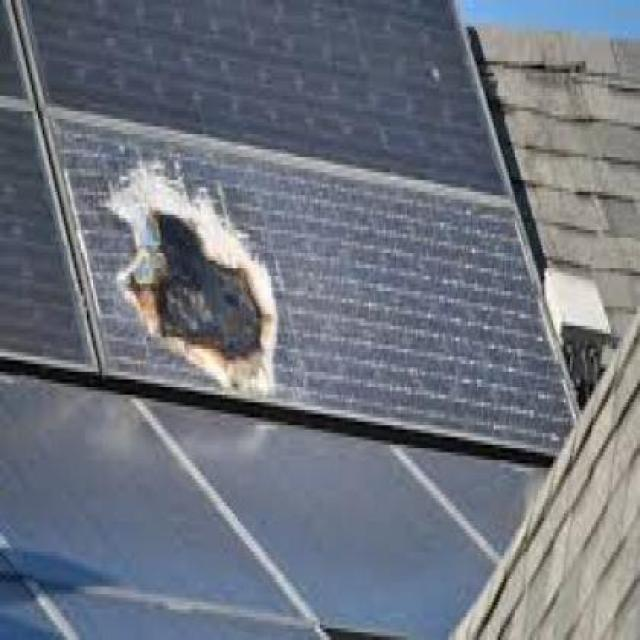cracked: (56, 108, 576, 456)
